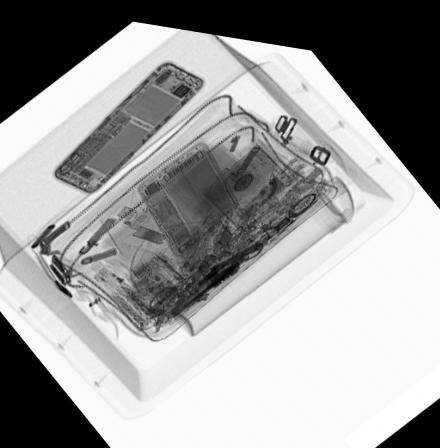Lighter: (92, 260, 139, 291)
